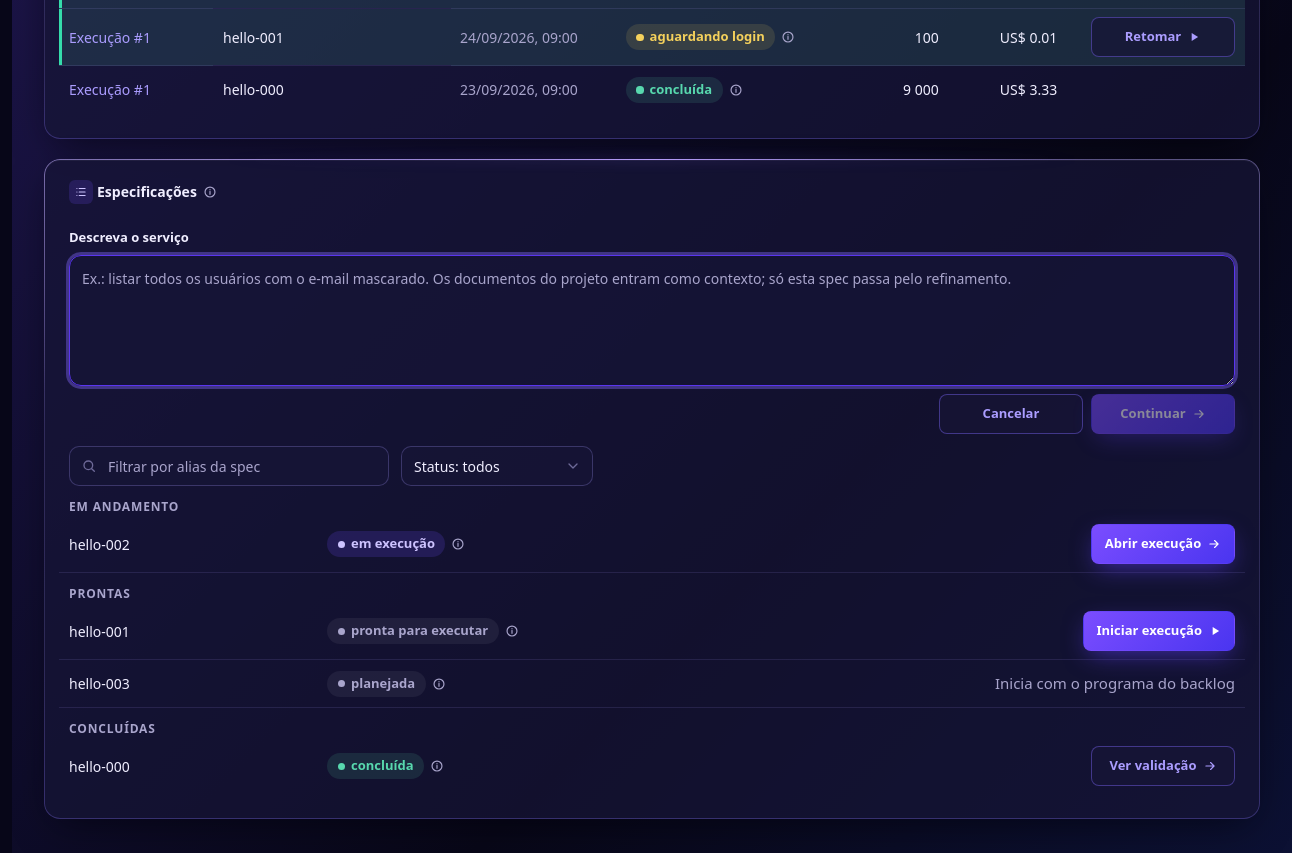
ProjectHubView › opens the new spec form straight from a ?novaSpec=1 link and drops the parameter when it closes
(page scrolled)
expect the text box with test id "new-spec-description" is shown: met, box [69,255,1235,386]
What coordinates should you click on to do the following:
click the button with test id "cancel-new-spec"
I would click on:
 (1011, 414)
Its box is [939,394,1083,434].
(page scrolled)
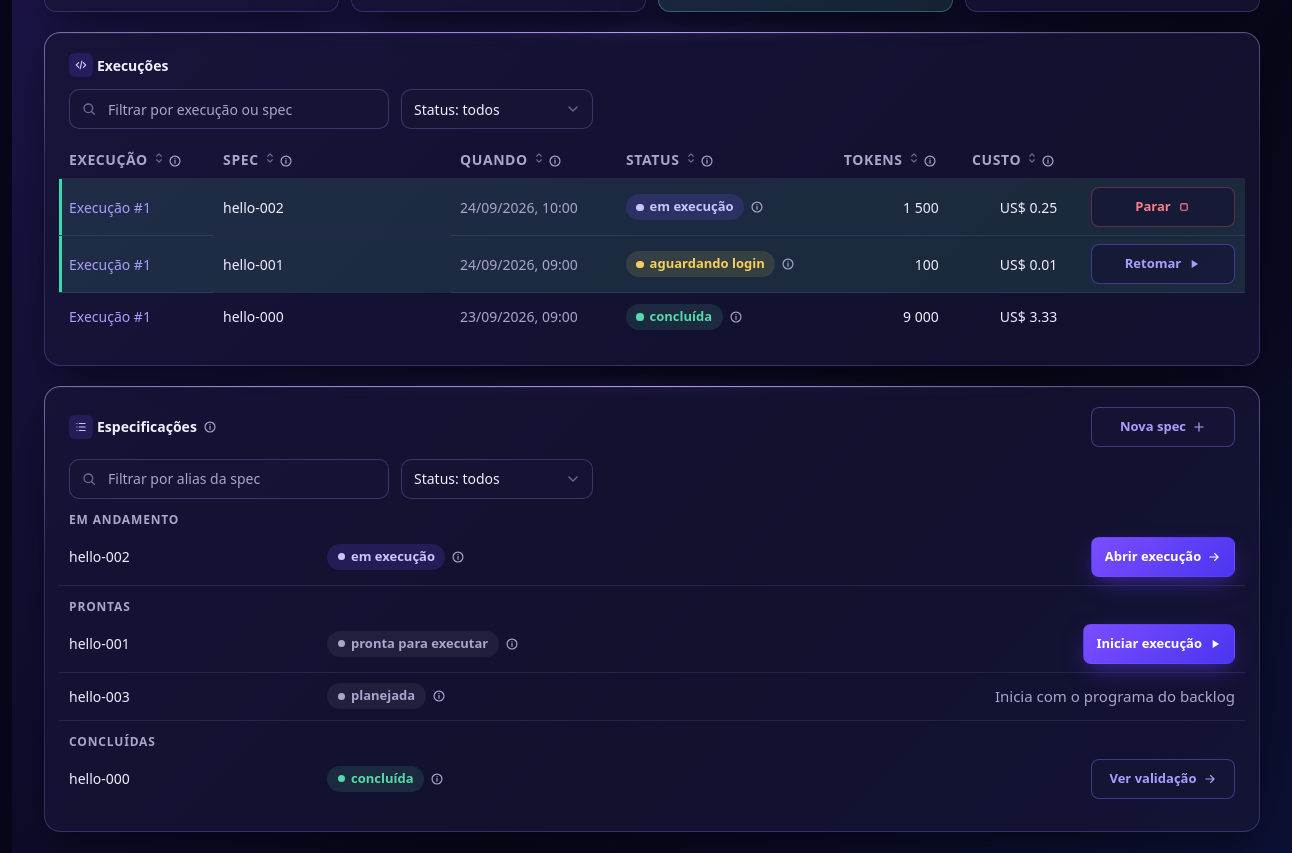
expect the label with test id "new-spec-description" is gone: met
